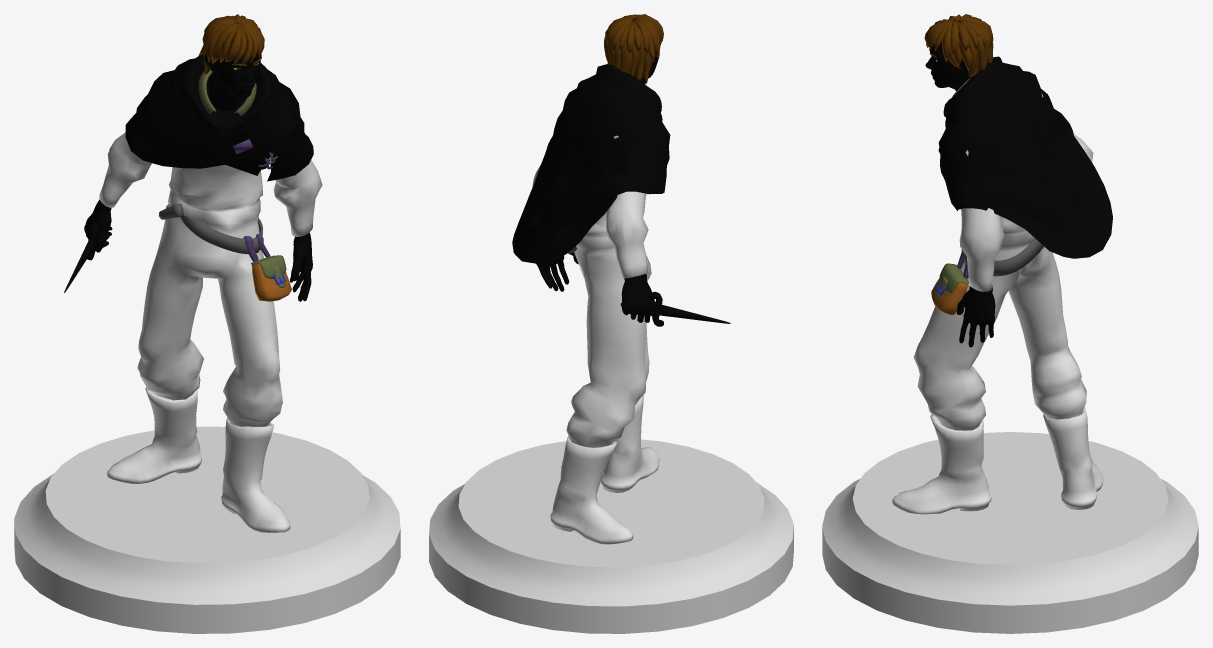
File: Figurka_Messanger.fbx
The picture shows the model from 3 angles, left to right: view 1: azimuth 30°, elevation 25°; view 2: azimuth 150°, elevation 25°; view 3: azimuth 270°, elevation 25°; orthographic projection. The views are drawn at different scales.
Visible parts, largest first — view 1: Figurka_Messanger; view 2: Figurka_Messanger; view 3: Figurka_Messanger.
Part boxes in pixels (x1,y1,x2,y2): Figurka_Messanger: (14,14,400,633); Figurka_Messanger: (429,14,793,633); Figurka_Messanger: (822,14,1198,633).
Bounding box in the file's own units: 3.04 × 4.78 × 3.04.
